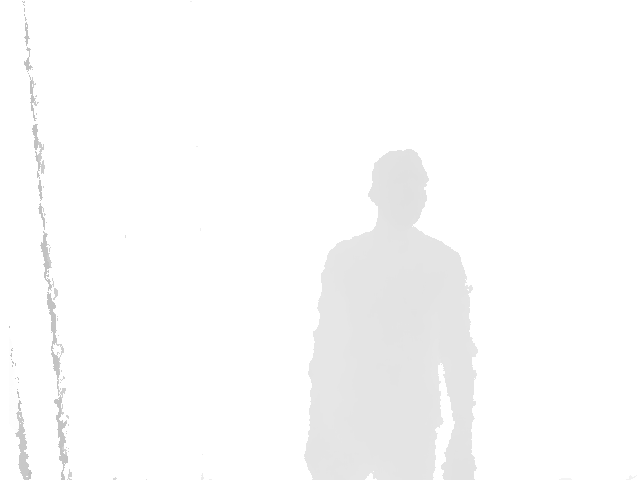head: (368, 149, 429, 227)
person: (302, 149, 479, 480)
